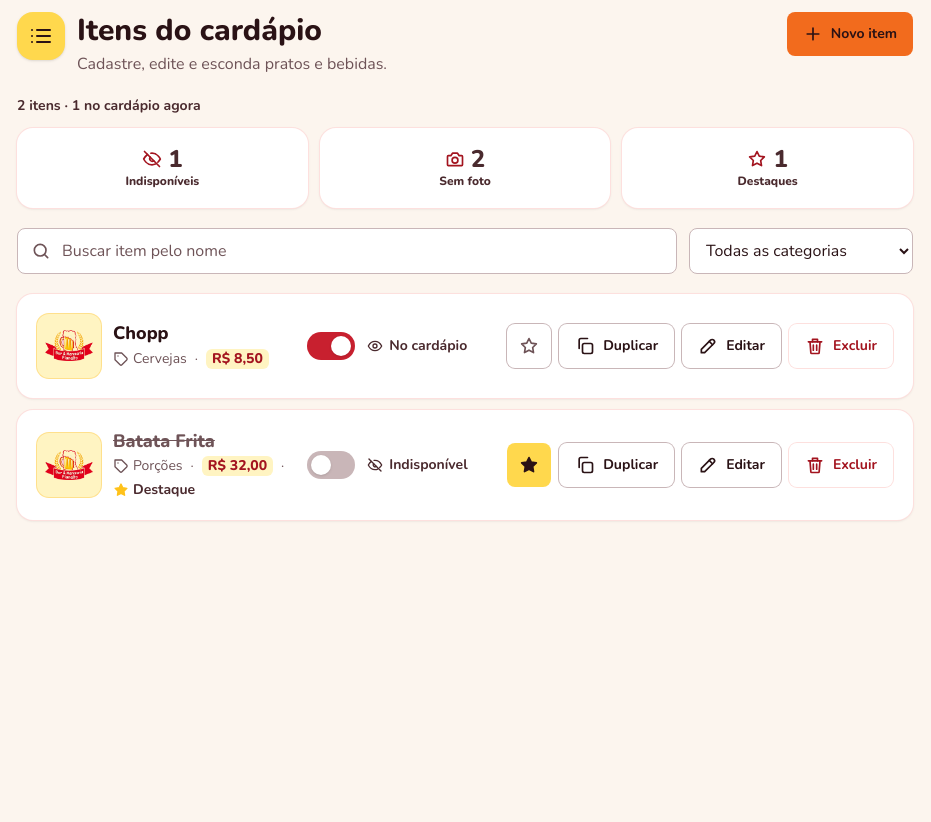
Test: ItemsPage (proprietário) › desfaz a mudança e avisa se a API falhar
Click the switch named "Disponível: Chopp": (331, 346) x1=307 y1=332 x2=355 y2=360
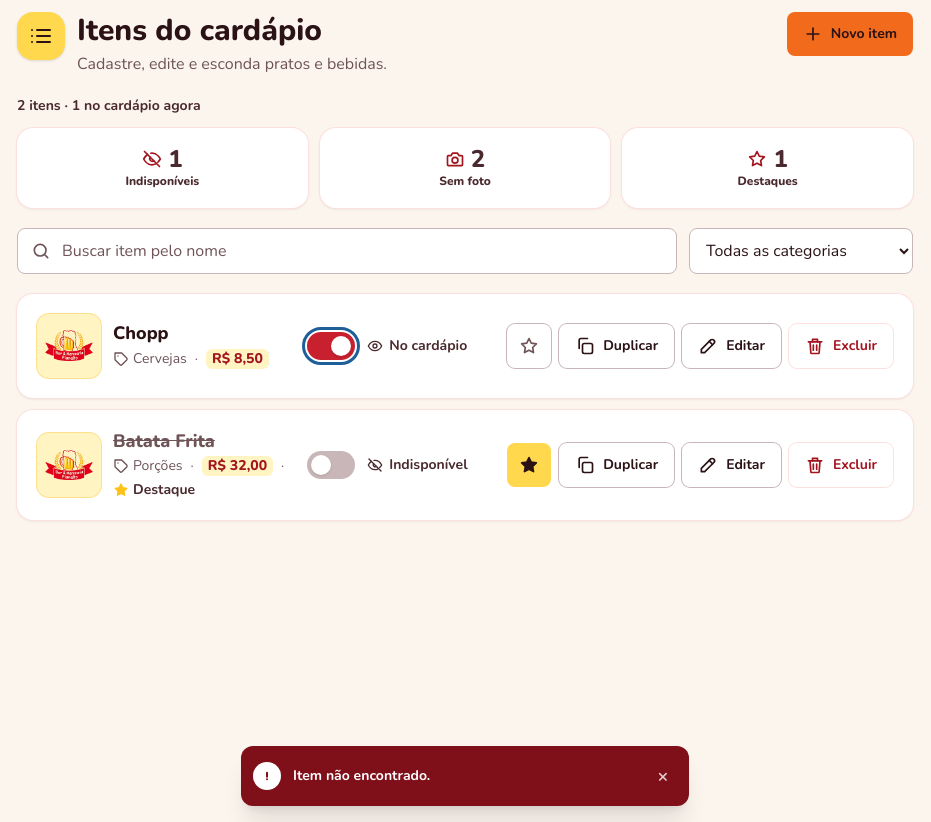
Now the message shows "Item não encontrado.", box x1=293 y1=766 x2=430 y2=785
